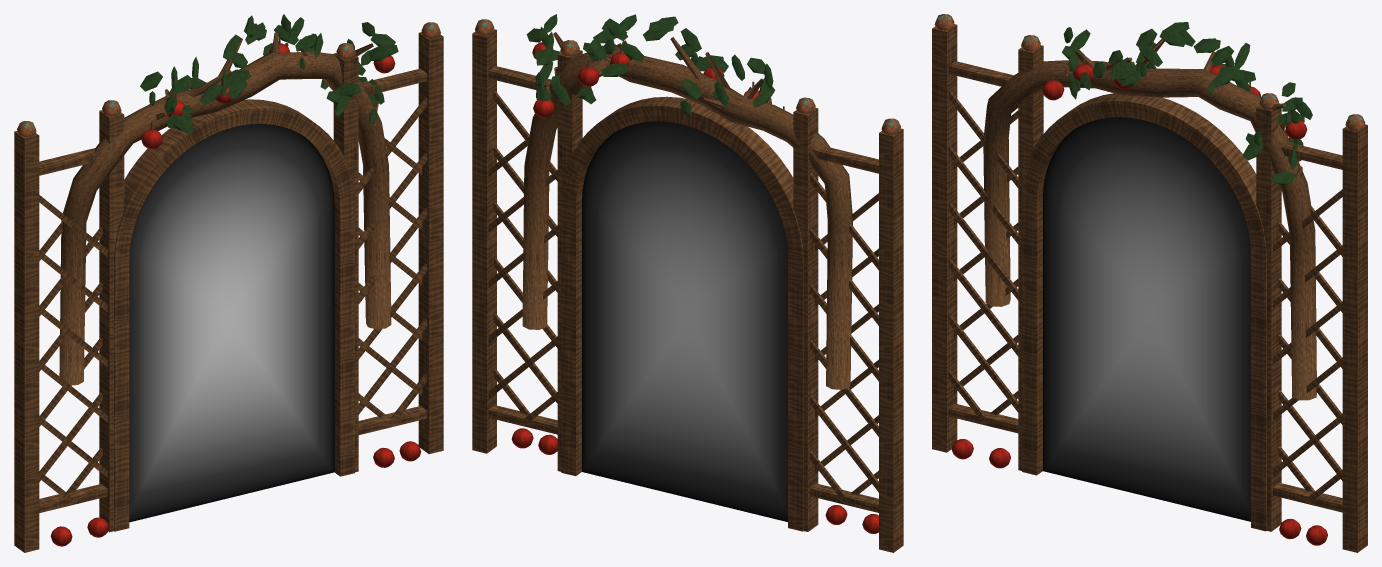
Rendered from orchard_highlands.glb.
3 renders of one model, left to right at view 1: azimuth 30°, elevation 25°; view 2: azimuth 150°, elevation 25°; view 3: azimuth 330°, elevation 25°, orthographic.
Visible parts, largest first — view 1: Frame, Veil; view 2: Frame, Veil; view 3: Frame, Veil.
Part boxes in pixels (<box>): Frame: <box>14,14,443,552</box>; Veil: <box>129,123,334,522</box>; Frame: <box>472,14,903,552</box>; Veil: <box>582,121,787,521</box>; Frame: <box>932,14,1367,552</box>; Veil: <box>1043,117,1250,521</box>.
Size of the model in its own units: 2.88 by 3.07 by 0.4916.
5 materials, 4 textured.
